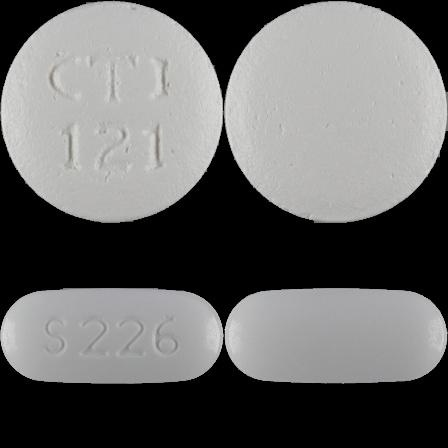63187-129: (0, 0, 224, 224)
